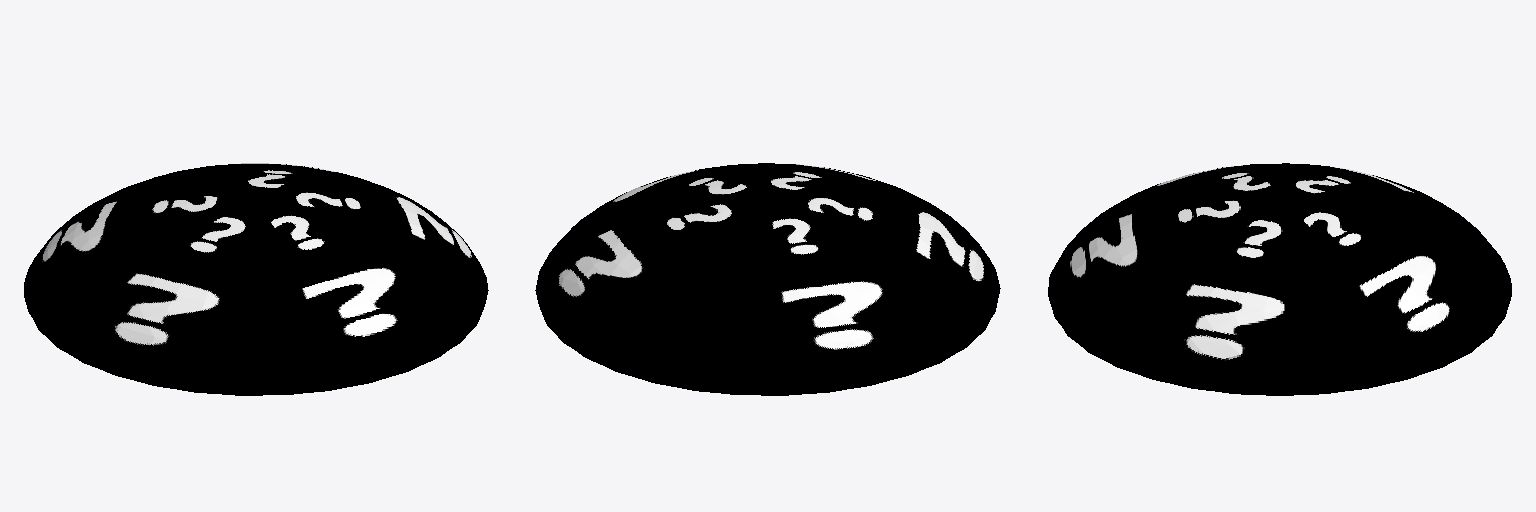
The picture shows the model from 3 angles: view 1: azimuth 30°, elevation 25°; view 2: azimuth 150°, elevation 25°; view 3: azimuth 270°, elevation 25°; orthographic projection.
Visible parts, largest first — view 1: 球; view 2: 球; view 3: 球.
Part boxes in pixels (x1,y1,x2,y2): 球: (24,163,488,395); 球: (535,163,1000,395); 球: (1048,163,1511,395).
Bounding box in the file's own units: 1.94 × 0.4969 × 1.94.
1 materials, 1 textured.